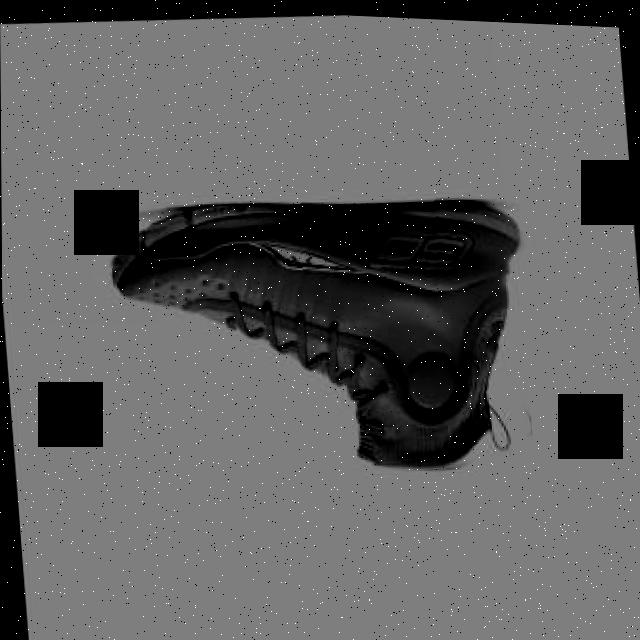shoe: (106, 174, 534, 489), (101, 192, 524, 464)
